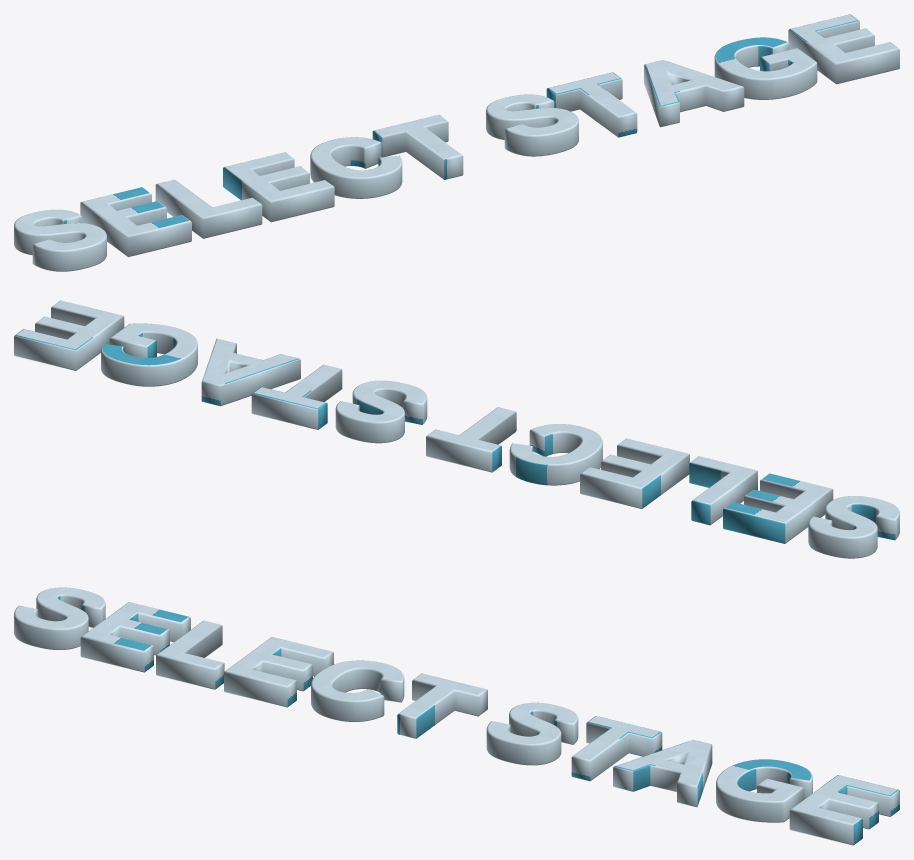
Rendered from select_stage.obj.
3 renders of one model, top to bottom at view 1: azimuth 30°, elevation 25°; view 2: azimuth 150°, elevation 25°; view 3: azimuth 330°, elevation 25°, orthographic.
Visible parts, largest first — view 1: SelectStage; view 2: SelectStage; view 3: SelectStage.
Boxes of the visible parts, bbox=[...] form: SelectStage: bbox=[14, 14, 899, 271]; SelectStage: bbox=[14, 300, 899, 558]; SelectStage: bbox=[14, 587, 899, 845].
Bounding box in the file's own units: 7.2 × 0.1735 × 0.7253.
1 material, 1 textured.
